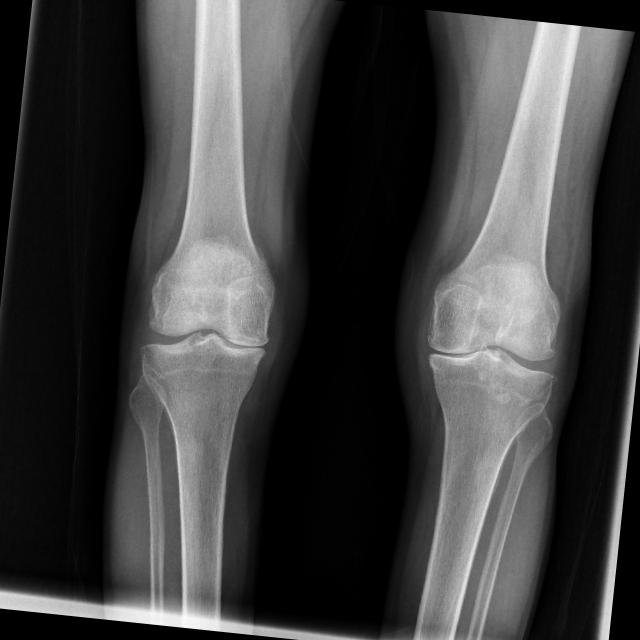Knee: (134, 274, 280, 405), (421, 290, 568, 420)
